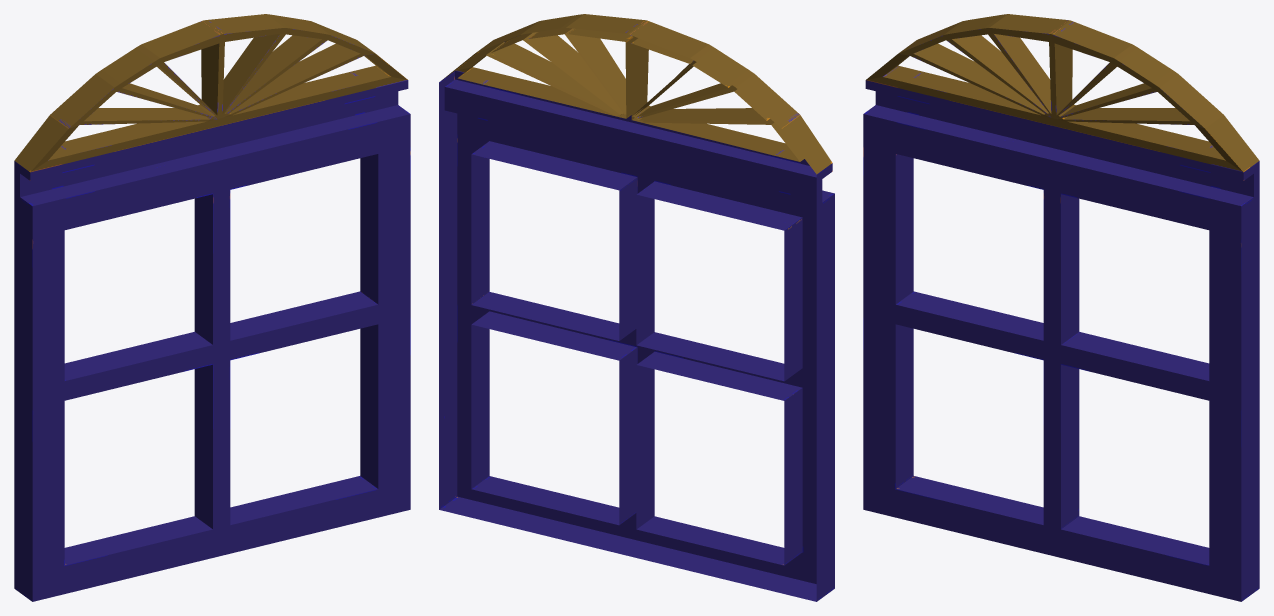
File: Fenster.fbx
3 renders of one model, left to right at view 1: azimuth 30°, elevation 25°; view 2: azimuth 150°, elevation 25°; view 3: azimuth 330°, elevation 25°, orthographic.
Visible parts, largest first — view 1: Cube; view 2: Cube; view 3: Cube.
Boxes of the visible parts, x1,y1,x2,y2 form: Cube: (14,14,410,601); Cube: (439,14,834,601); Cube: (863,14,1259,601).
Size of the model in its own units: 120 by 158 by 10.46.
1 material, 1 textured.
